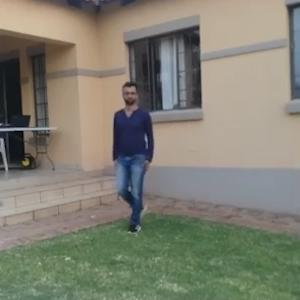follow: (119, 89, 165, 226)
